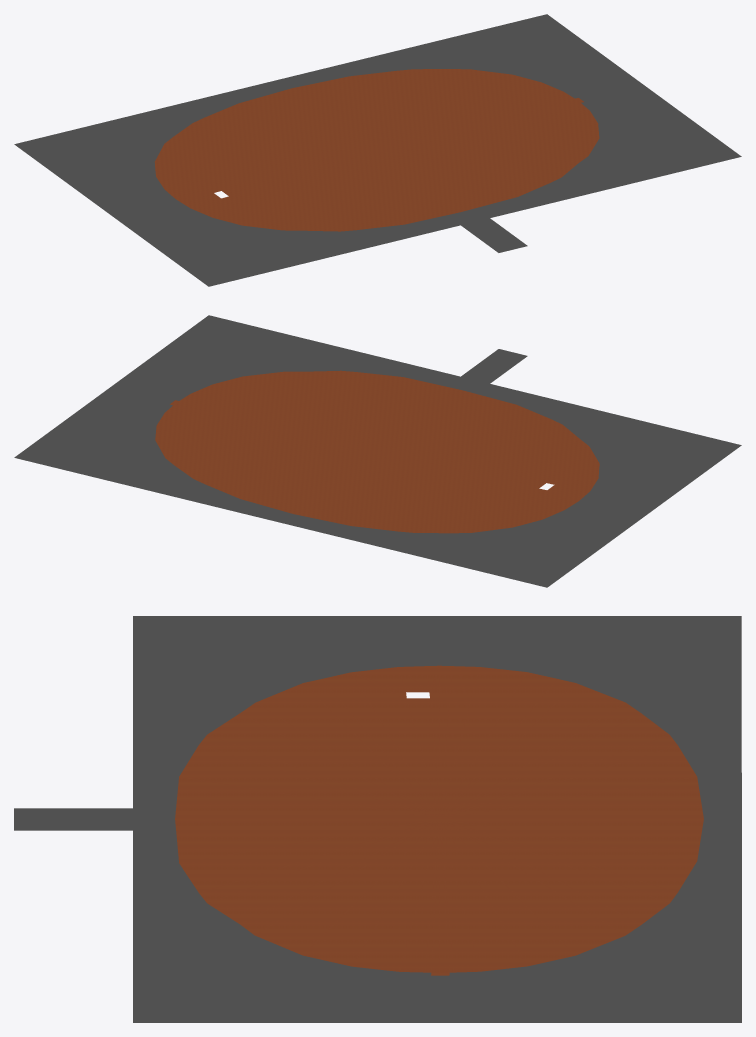
Rendered from Stadium_Plate.FBX.
The picture shows the model from 3 angles, top to bottom: view 1: azimuth 30°, elevation 25°; view 2: azimuth 150°, elevation 25°; view 3: azimuth 270°, elevation 25°; orthographic projection. The views are drawn at different scales.
Visible parts, largest first — view 1: Stadium_plate; view 2: Stadium_plate; view 3: Stadium_plate.
Part boxes in pixels (x1,y1,x2,y2): Stadium_plate: (14,14,741,286); Stadium_plate: (14,315,741,587); Stadium_plate: (14,616,741,1022).
Size of the model in its own units: 2417 by 5.18e-13 by 1828.
